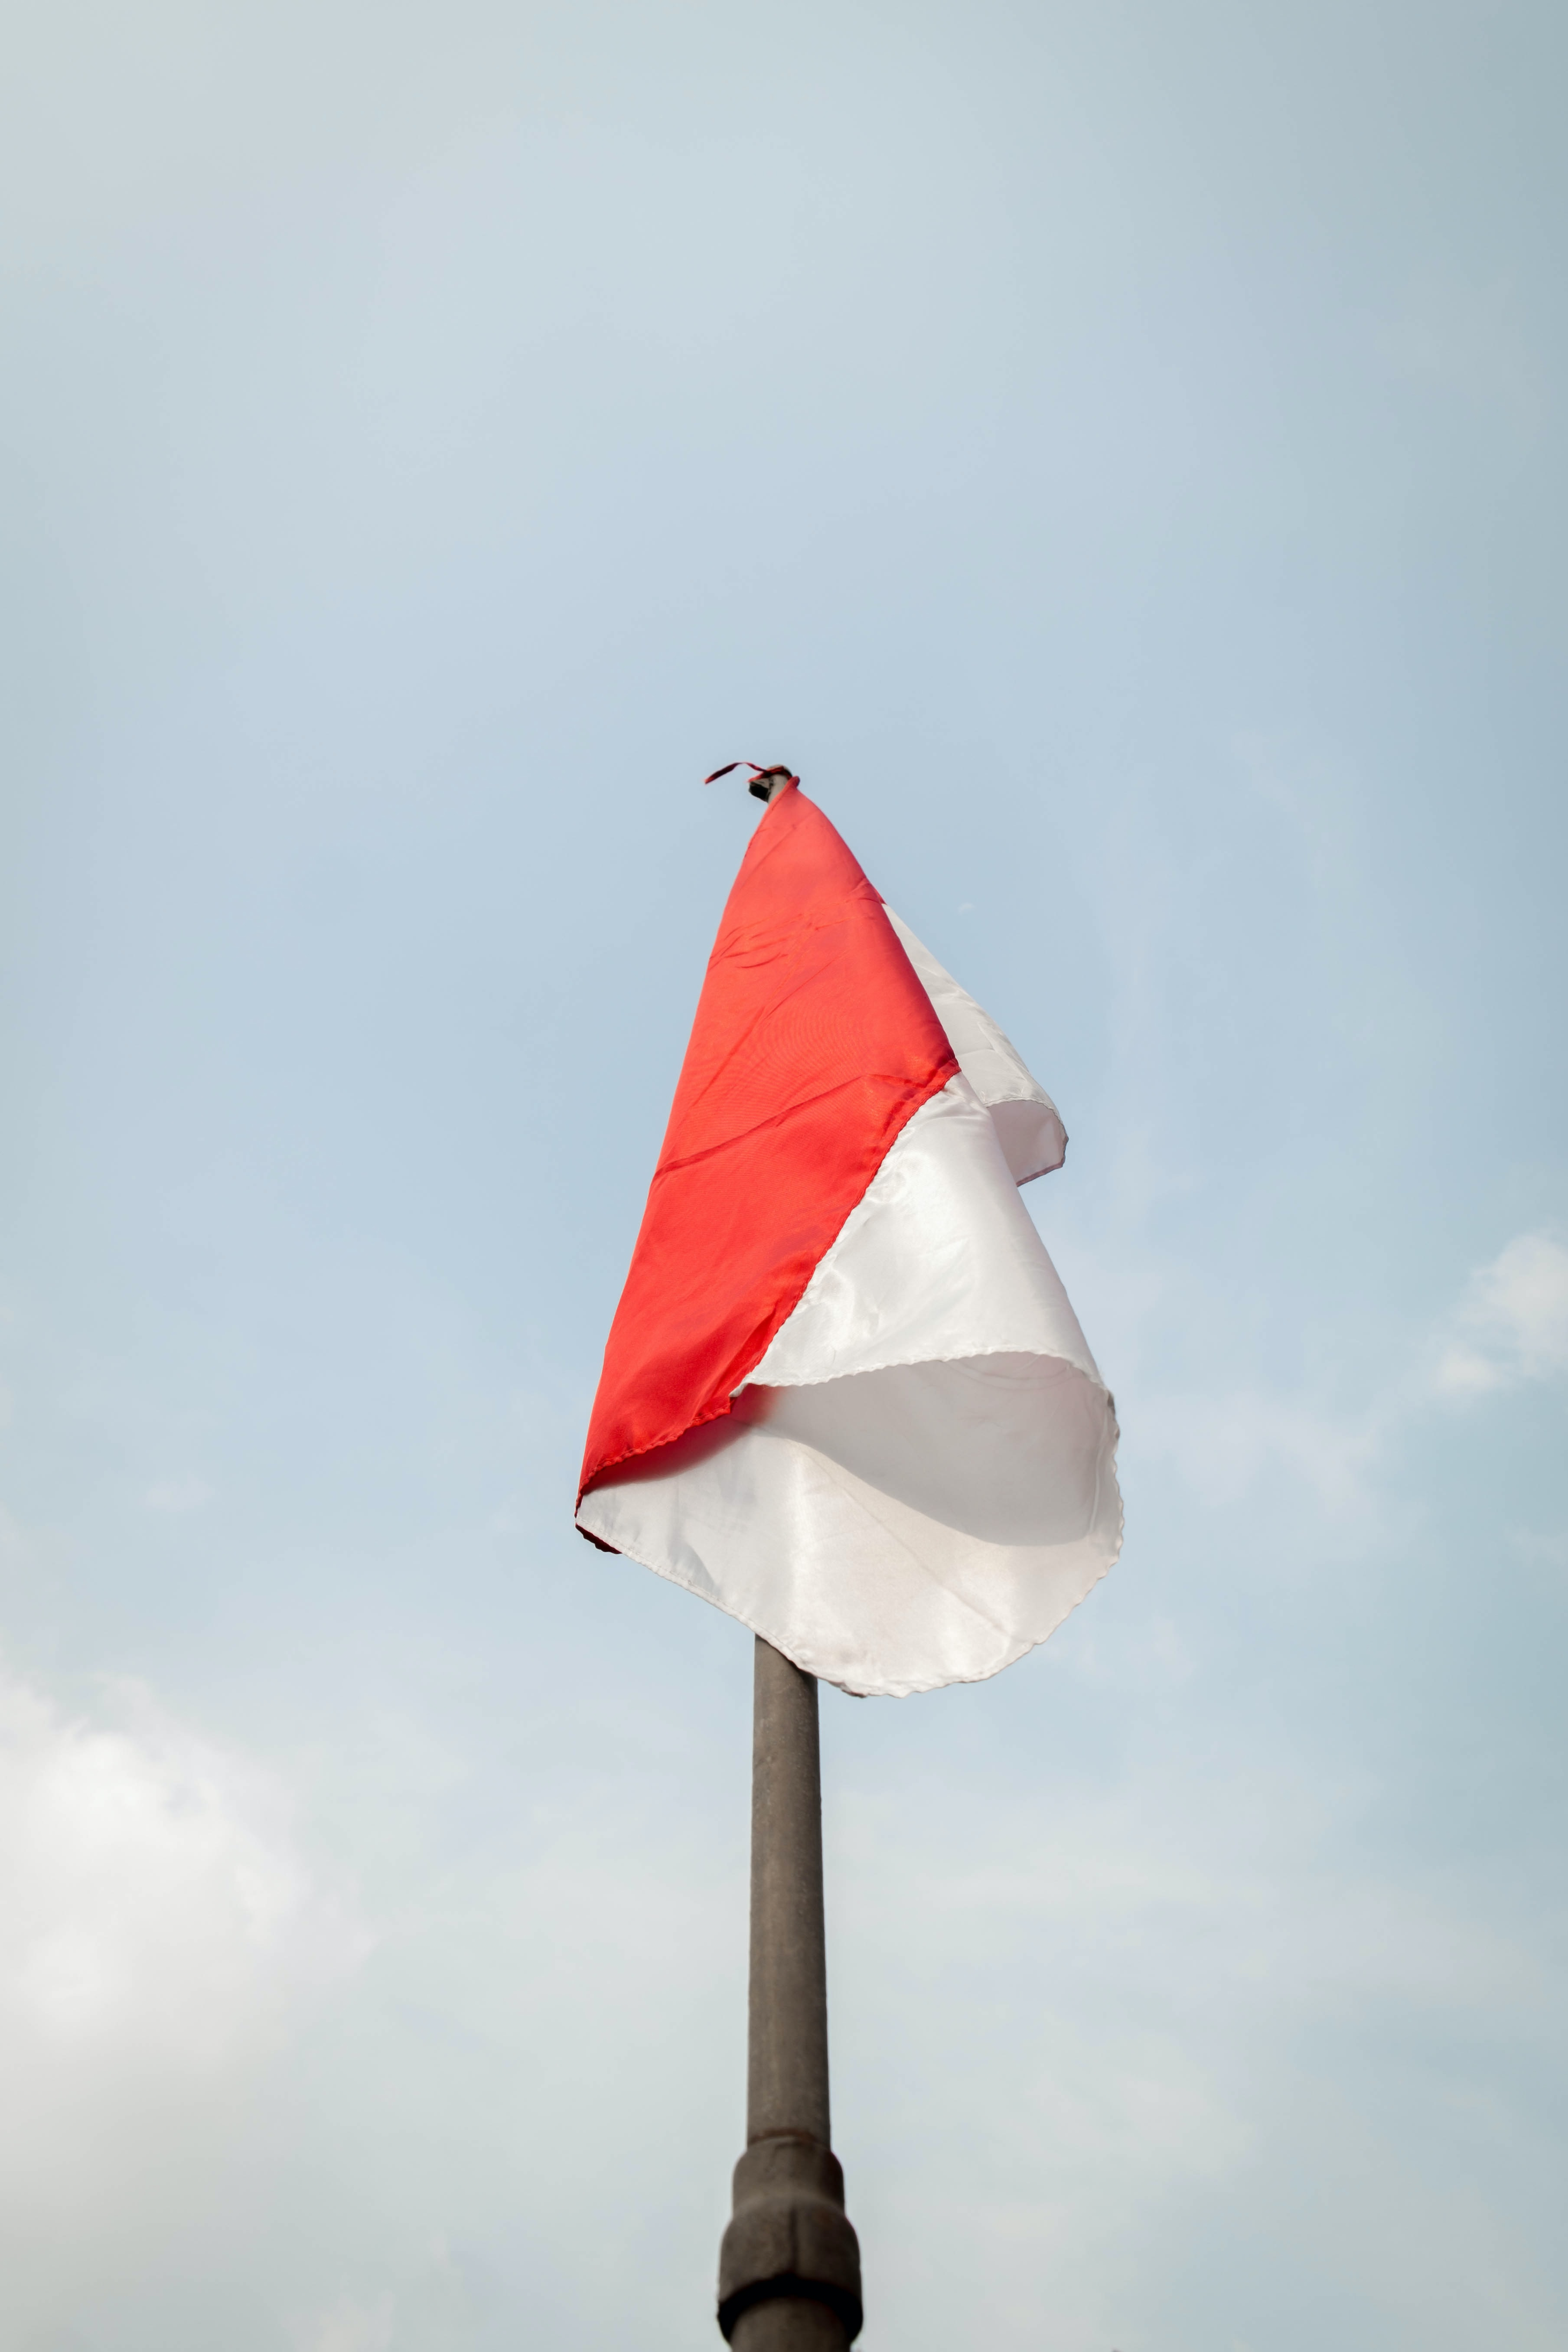Flag: (572, 740, 1134, 1710)
